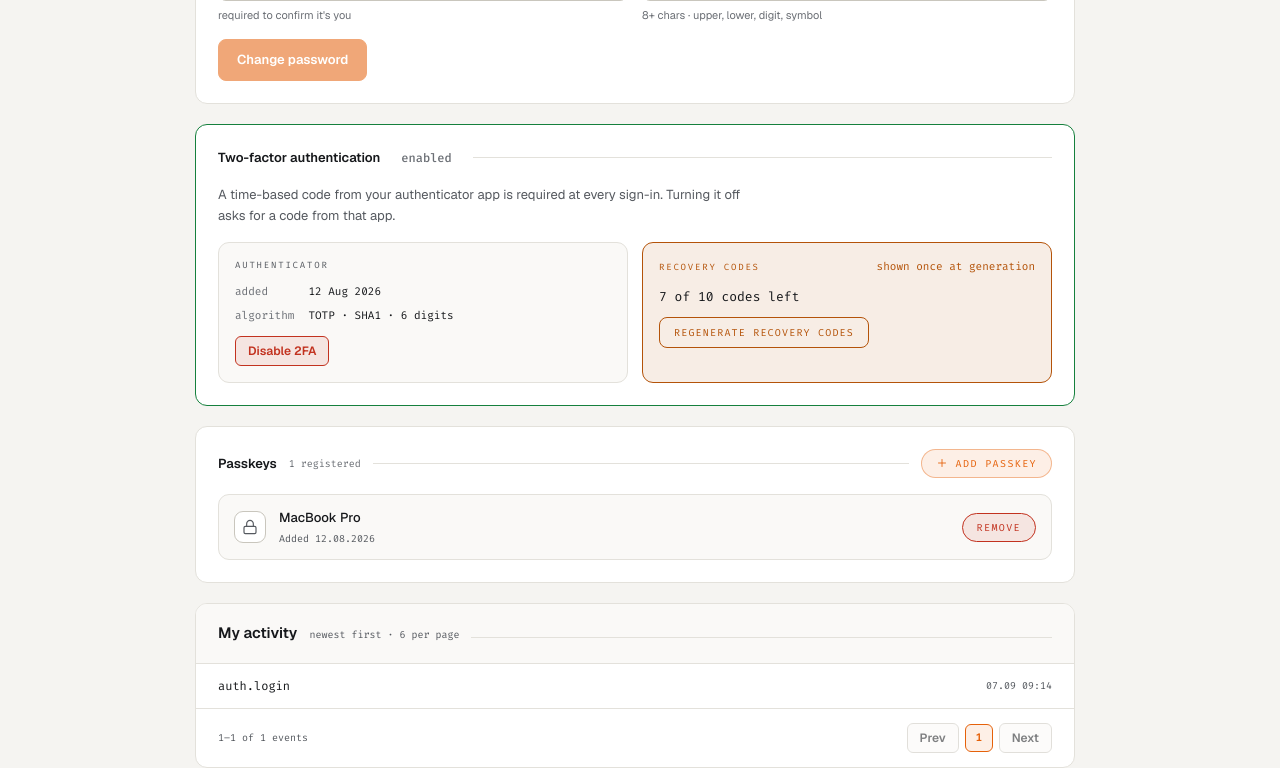
Test: AccountPage › asks a passkey removal for the factor me.totpEnabled names
The width and height of the screenshot is (1280, 768).
(page scrolled)
Click the button with aria-label "Remove MacBook Pro" at (999, 527), box 962,513 -> 1036,542
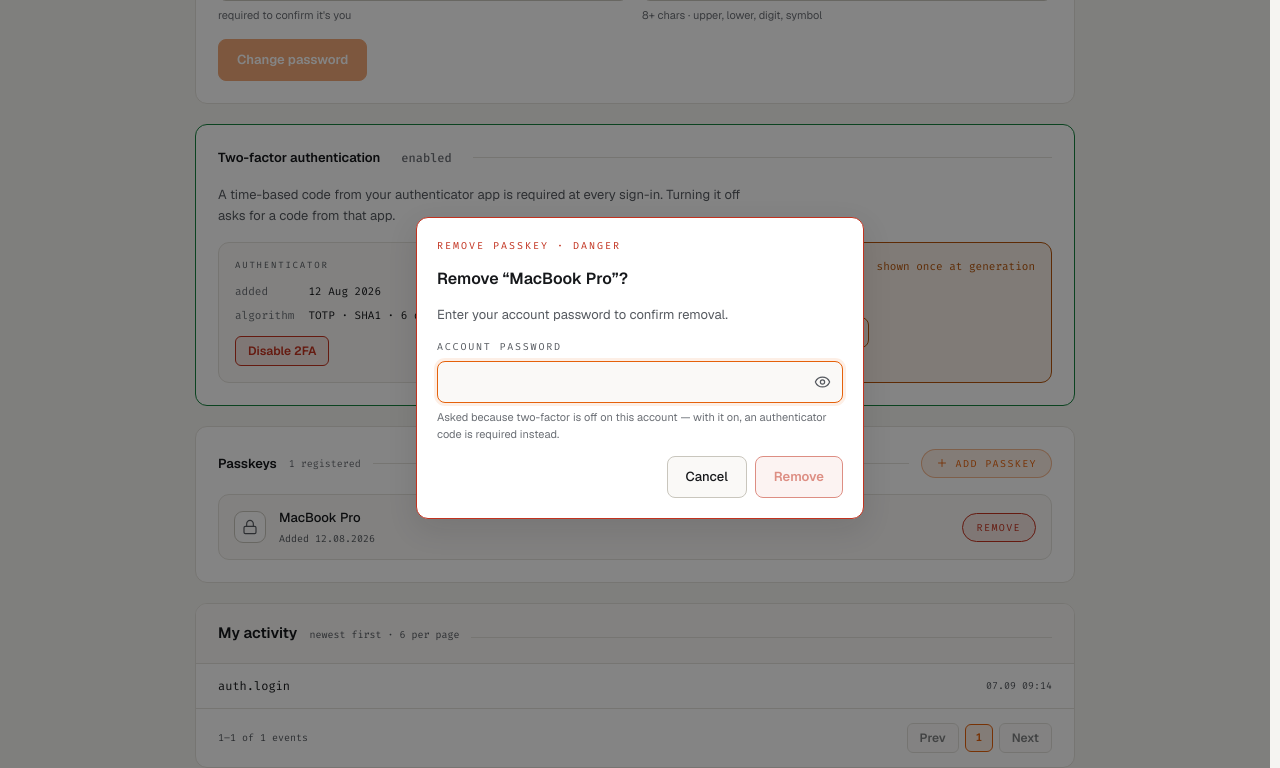
Now the password field labelled "Account password" is shown, box 437,361 -> 843,403
